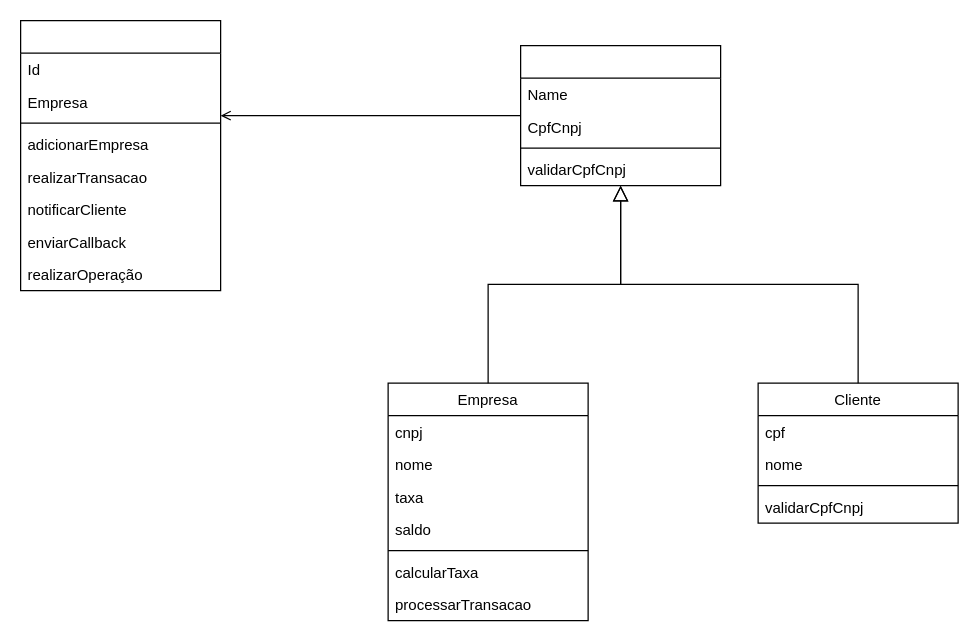
Image size: 979x641. Some labels were removed from this diagram. Each missing label, with the box of its shape:
Pessoa: (519, 44, 721, 186)
Sistema: (19, 19, 221, 291)
